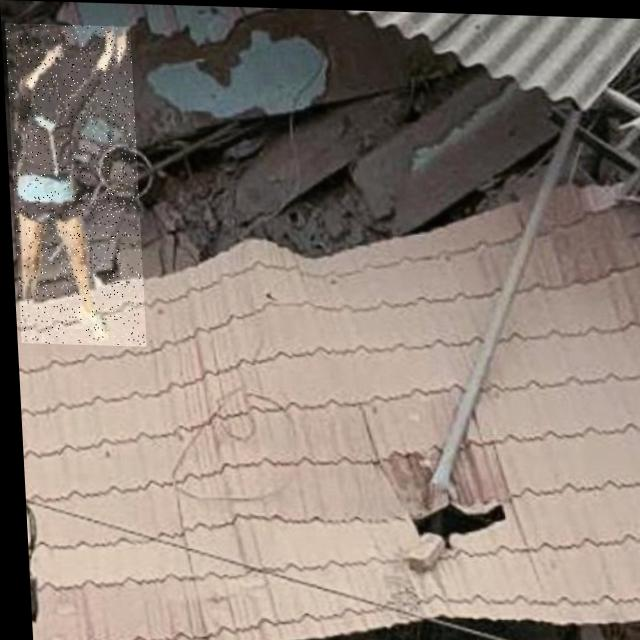Person in Rubble: (5, 23, 143, 346)
